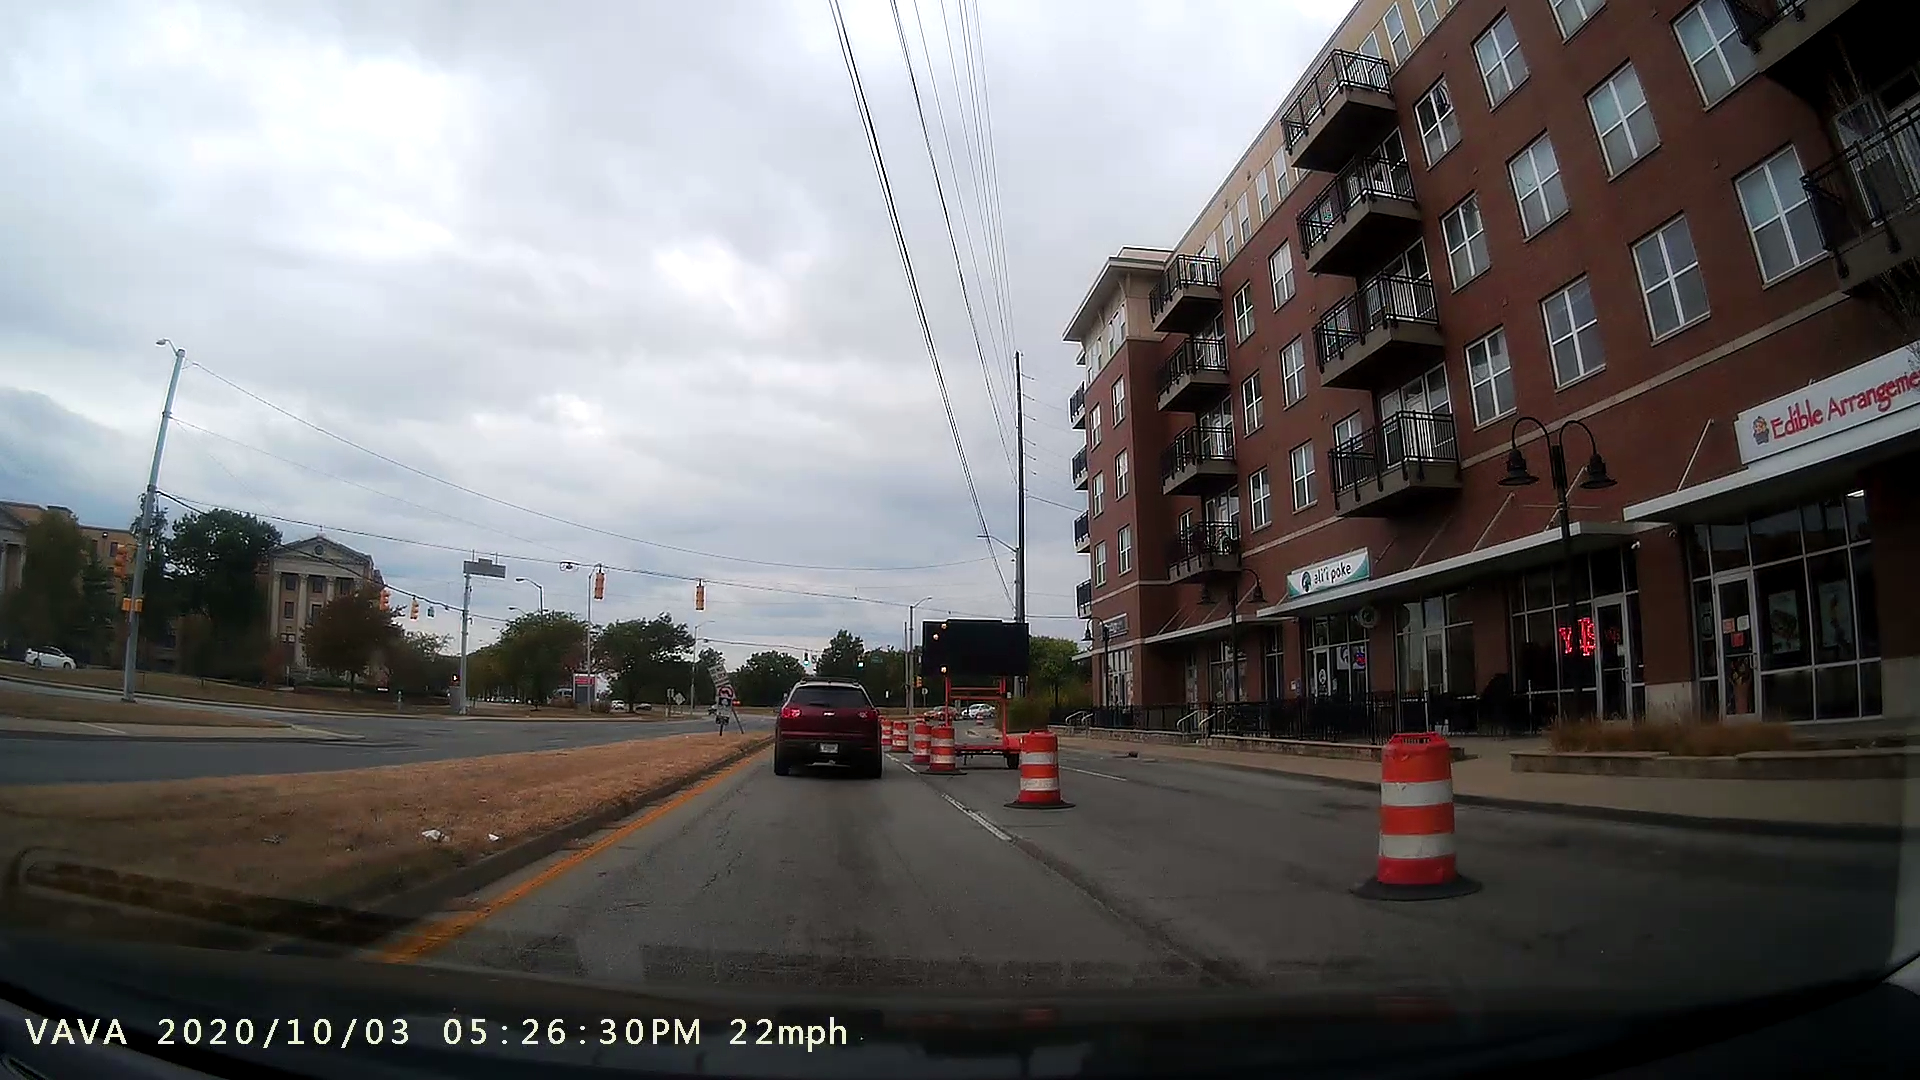const_barrel: (1335, 727, 1507, 918), (1001, 713, 1085, 822), (922, 723, 968, 786)
